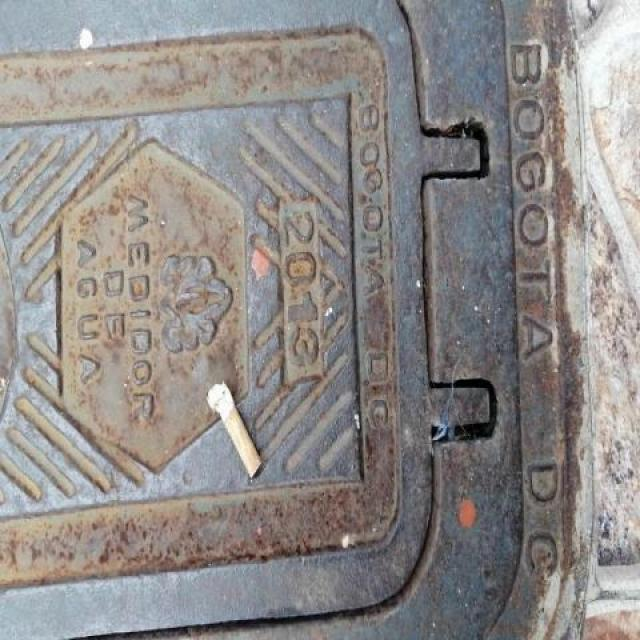non-organic waste: (202, 377, 265, 482)
